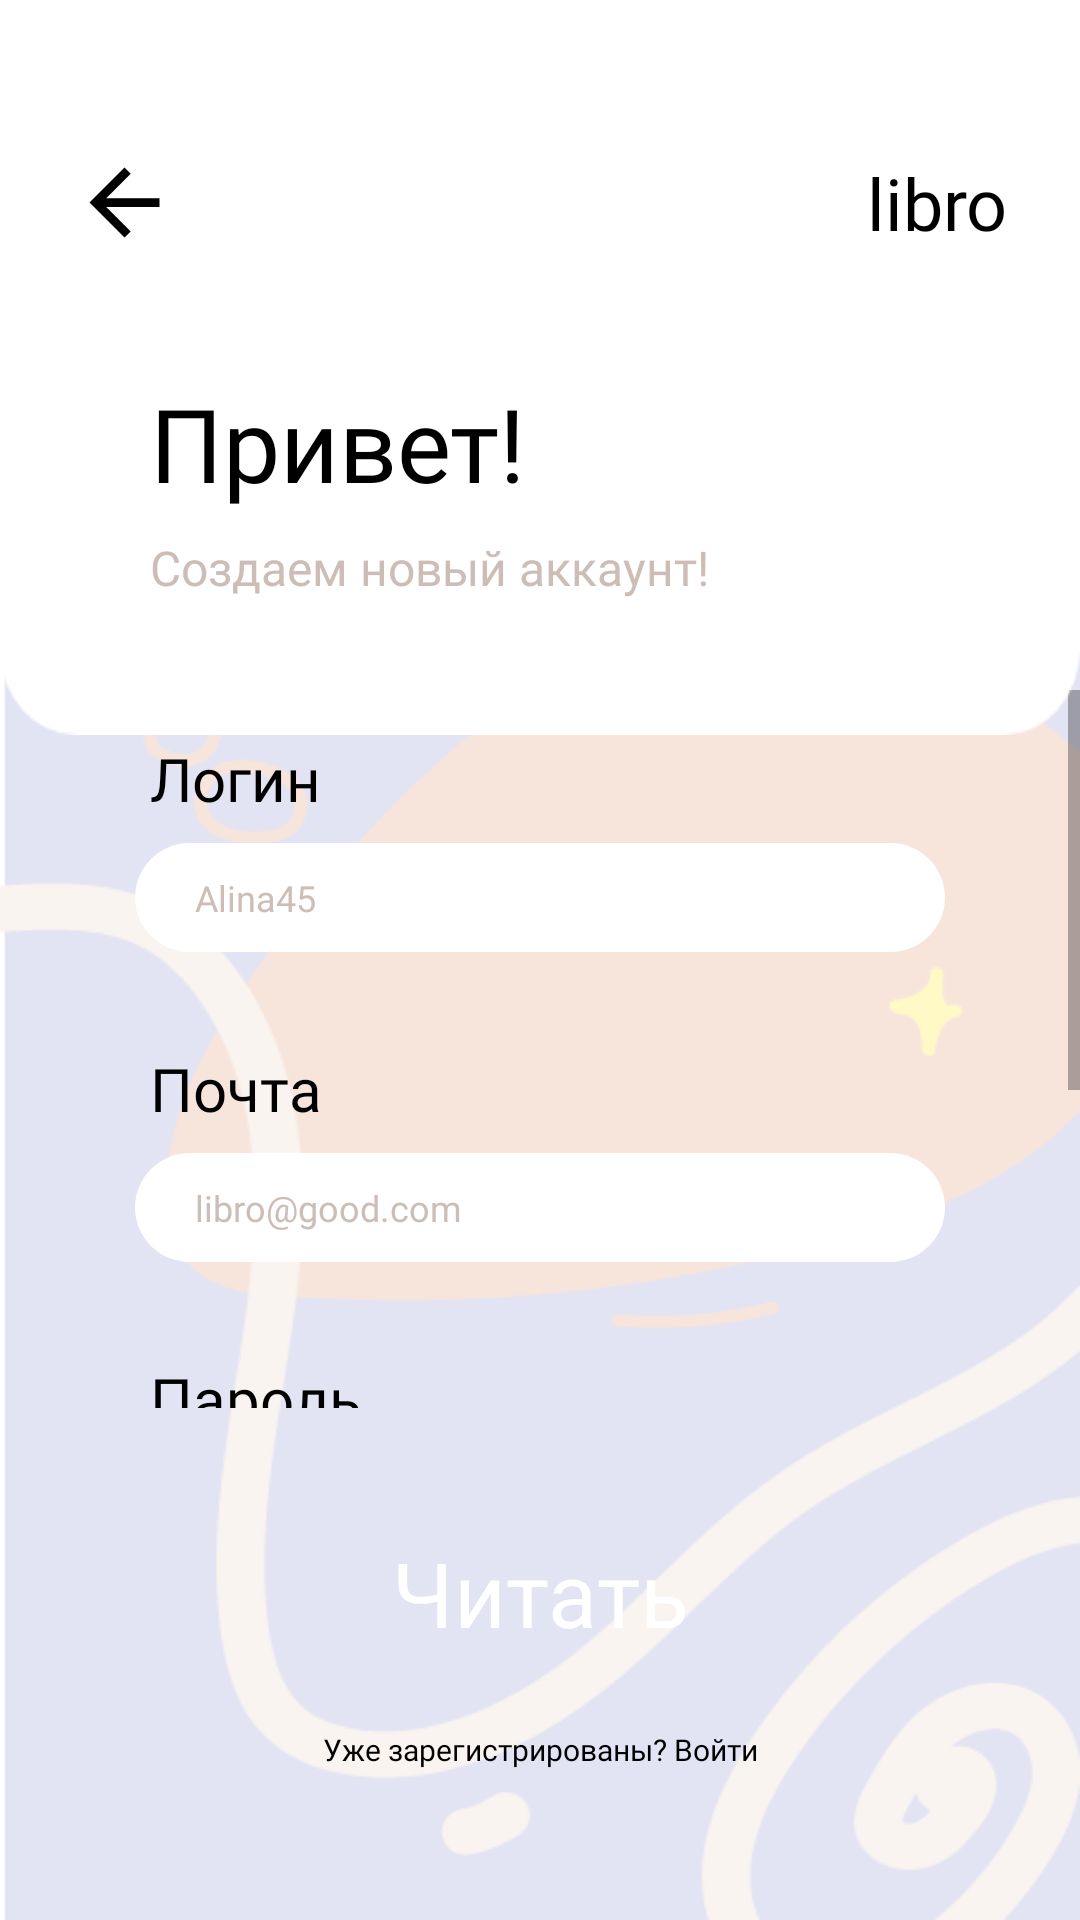

Named icons in this screenshot (1080px x 1920px) and their bounding boxes, box=[x1, y1, x2, y2]:
arrow: box=[89, 167, 160, 238]
